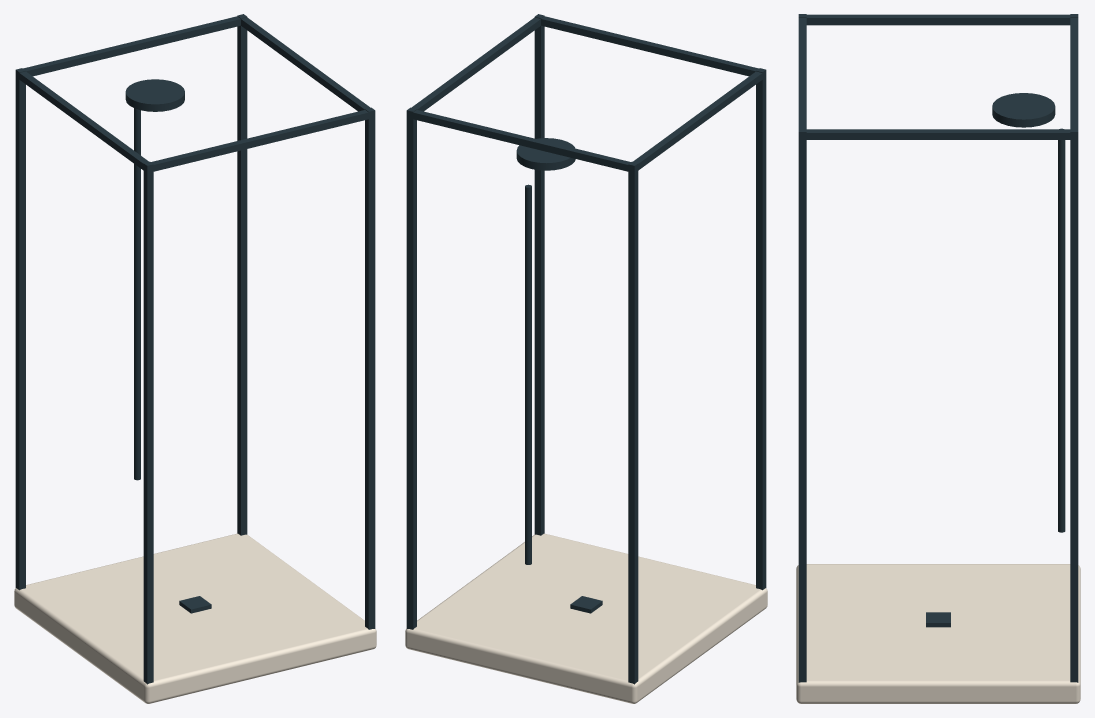
The model's file is shower.glb.
3 views of the same model, side by side, from view 1: azimuth 30°, elevation 25°; view 2: azimuth 150°, elevation 25°; view 3: azimuth 270°, elevation 25° (orthographic). The views are drawn at different scales.
Visible parts, largest first — view 1: poc-shower-part-93, poc-shower-part-95, poc-shower-part-97, poc-shower-part-94, poc-shower-part-96, poc-shower-part-102, poc-shower-part-101, poc-shower-part-100, poc-shower-part-98, poc-shower-part-99, poc-shower-part-103; view 2: poc-shower-part-93, poc-shower-part-94, poc-shower-part-96, poc-shower-part-95, poc-shower-part-97, poc-shower-part-102, poc-shower-part-100, poc-shower-part-101, poc-shower-part-98, poc-shower-part-99, poc-shower-part-103; view 3: poc-shower-part-93, poc-shower-part-96, poc-shower-part-97, poc-shower-part-98, poc-shower-part-102, poc-shower-part-99, poc-shower-part-103, poc-shower-part-100, poc-shower-part-101.
Boxes of the visible parts, box(x1,y1,x2,y2) form: poc-shower-part-93: box(14, 533, 376, 703); poc-shower-part-95: box(143, 161, 153, 684); poc-shower-part-97: box(365, 107, 375, 629); poc-shower-part-94: box(15, 68, 25, 590); poc-shower-part-96: box(237, 14, 247, 535); poc-shower-part-102: box(134, 108, 140, 480); poc-shower-part-101: box(148, 110, 374, 172); poc-shower-part-100: box(23, 16, 240, 76); poc-shower-part-98: box(16, 71, 148, 171); poc-shower-part-99: box(241, 17, 370, 111); poc-shower-part-103: box(125, 79, 184, 111); poc-shower-part-93: box(405, 533, 767, 703); poc-shower-part-94: box(628, 161, 638, 684); poc-shower-part-96: box(406, 107, 416, 629); poc-shower-part-95: box(756, 68, 766, 590); poc-shower-part-97: box(534, 14, 544, 535); poc-shower-part-102: box(525, 184, 531, 564); poc-shower-part-100: box(407, 110, 633, 172); poc-shower-part-101: box(541, 16, 758, 76); poc-shower-part-98: box(633, 71, 765, 171); poc-shower-part-99: box(411, 17, 540, 111); poc-shower-part-103: box(516, 138, 575, 170); poc-shower-part-93: box(796, 564, 1080, 703); poc-shower-part-96: box(1070, 128, 1078, 682); poc-shower-part-97: box(798, 128, 806, 682); poc-shower-part-98: box(806, 14, 1070, 25); poc-shower-part-102: box(1058, 128, 1065, 532); poc-shower-part-99: box(806, 129, 1075, 139); poc-shower-part-103: box(992, 93, 1055, 127); poc-shower-part-100: box(1070, 18, 1078, 128); poc-shower-part-101: box(798, 18, 806, 128).
Bounding box in the file's own units: 0.9 × 2 × 0.9.
